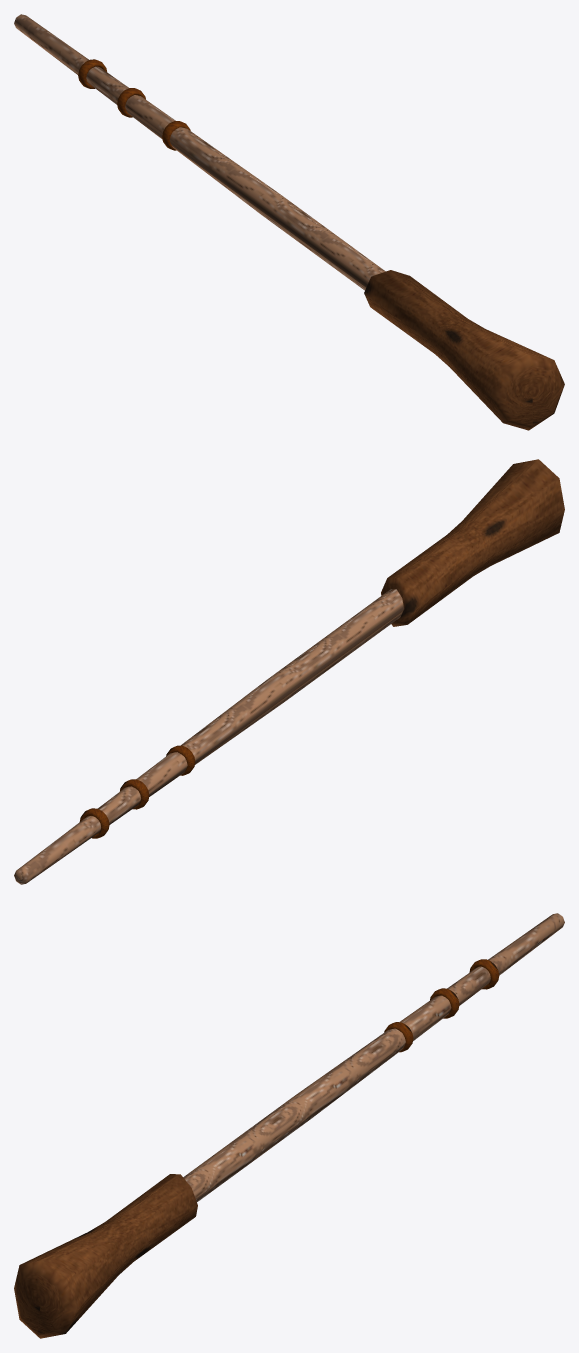
File: Varinha 1.fbx
3 renders of one model, top to bottom at view 1: azimuth 30°, elevation 25°; view 2: azimuth 150°, elevation 25°; view 3: azimuth 330°, elevation 25°, orthographic. The views are drawn at different scales.
Visible parts, largest first — view 1: Cylinder; view 2: Cylinder; view 3: Cylinder.
Part boxes in pixels (bbox=[...]): Cylinder: bbox=[14, 14, 564, 430]; Cylinder: bbox=[14, 459, 564, 884]; Cylinder: bbox=[14, 913, 564, 1338].
Size of the model in its own units: 3.93 by 4.23 by 52.08.
